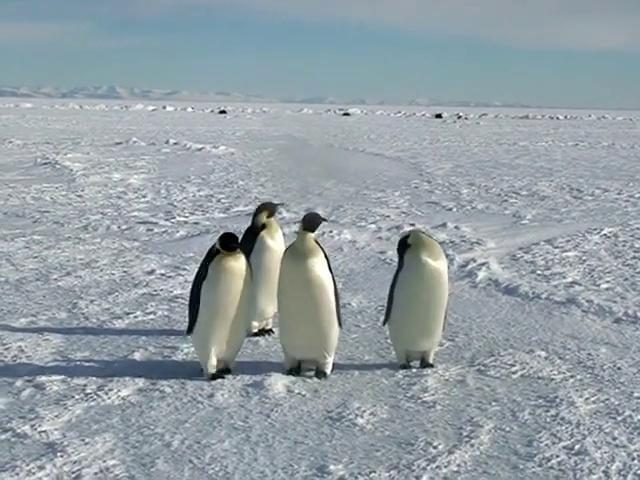animal: (383, 229, 447, 367)
